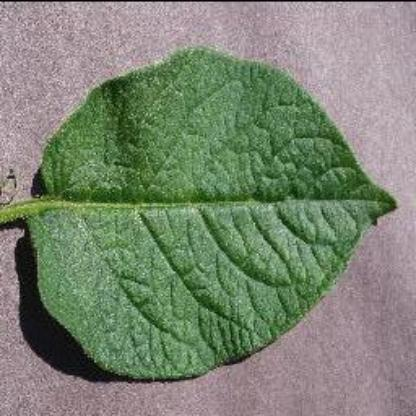Healthy-plant: (6, 42, 398, 384)
